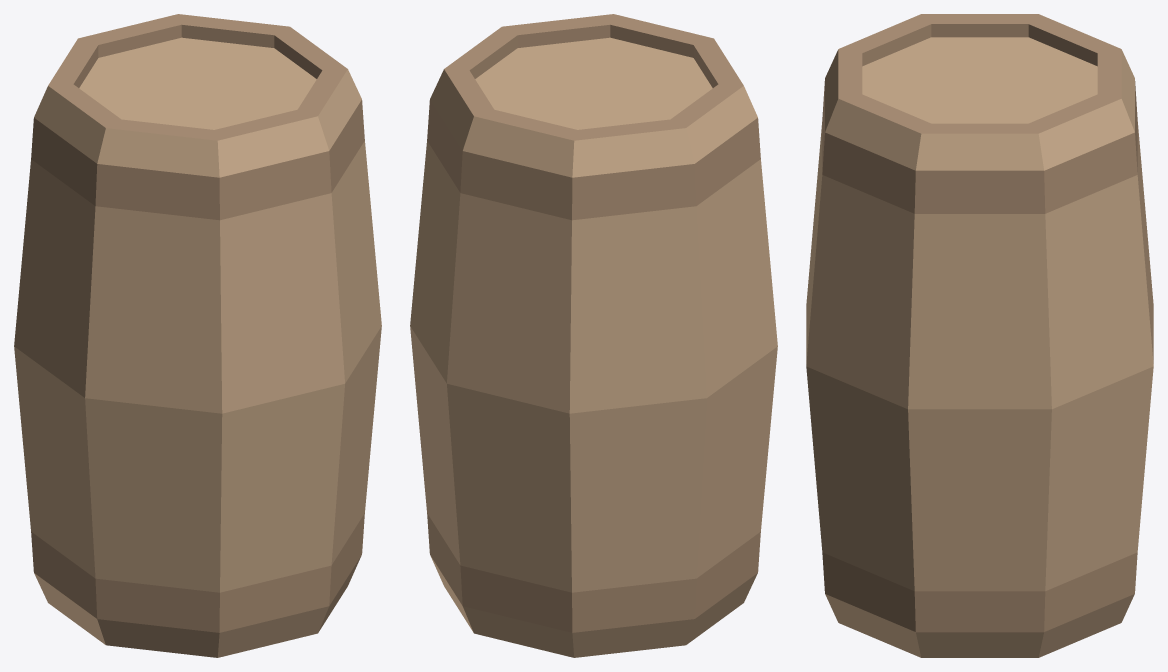
File: barrel.glb
3 views of the same model, side by side, from view 1: azimuth 30°, elevation 25°; view 2: azimuth 150°, elevation 25°; view 3: azimuth 270°, elevation 25° (orthographic).
Visible parts, largest first — view 1: barrel; view 2: barrel; view 3: barrel.
Boxes of the visible parts, x1,y1,x2,y2 form: barrel: (14, 14, 381, 657); barrel: (410, 14, 777, 657); barrel: (806, 14, 1153, 657).
Size of the model in its own units: 0.6005 by 1 by 0.6005.
